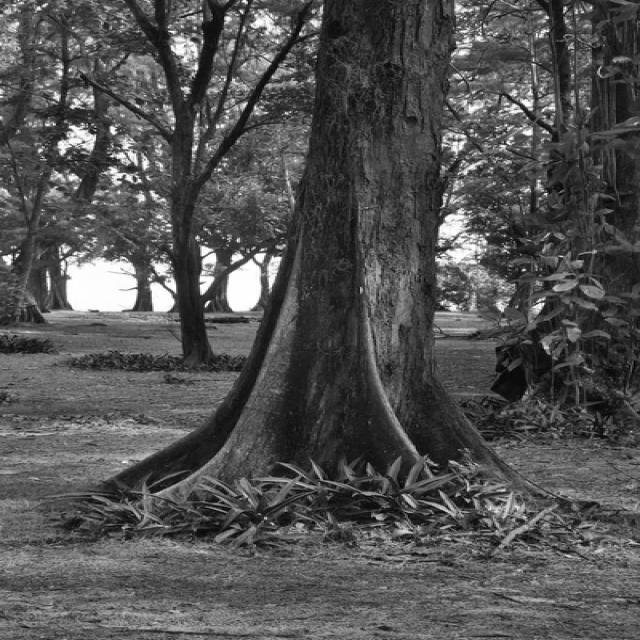Tree: (113, 0, 515, 486), (82, 0, 319, 366), (443, 0, 640, 415)
